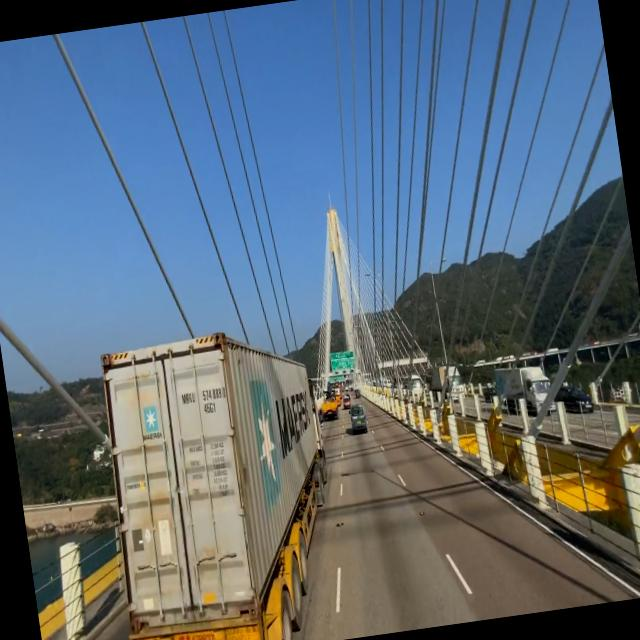Vehicle: (101, 323, 351, 640), (346, 398, 372, 438)
